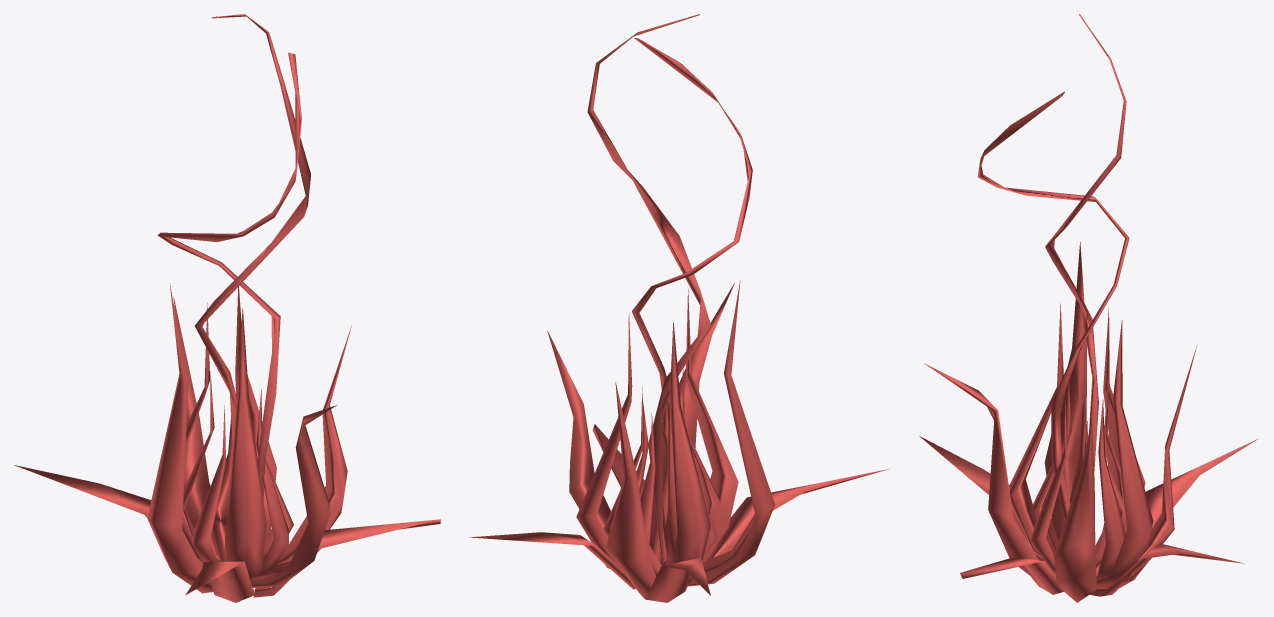
The model's file is plant2-lod2.fbx.
3 views of the same model, side by side, from view 1: azimuth 30°, elevation 25°; view 2: azimuth 150°, elevation 25°; view 3: azimuth 270°, elevation 25° (orthographic). The views are drawn at different scales.
Visible parts, largest first — view 1: plant2-lod2; view 2: plant2-lod2; view 3: plant2-lod2.
Part boxes in pixels (x1,y1,x2,y2): plant2-lod2: [14, 14, 440, 602]; plant2-lod2: [469, 14, 890, 602]; plant2-lod2: [919, 14, 1257, 602].
Size of the model in its own units: 1.49 by 2.98 by 1.64.
